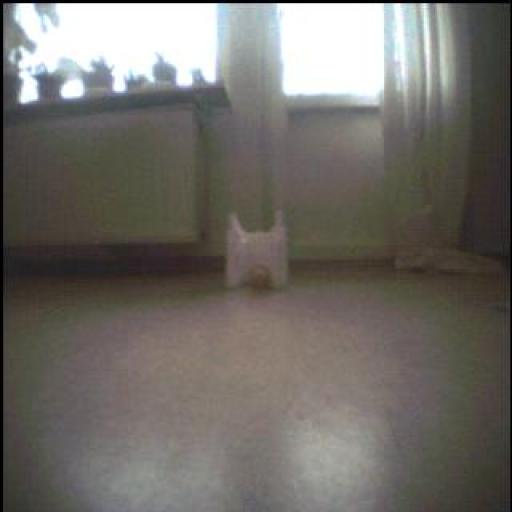Basket: (248, 264, 269, 292)
